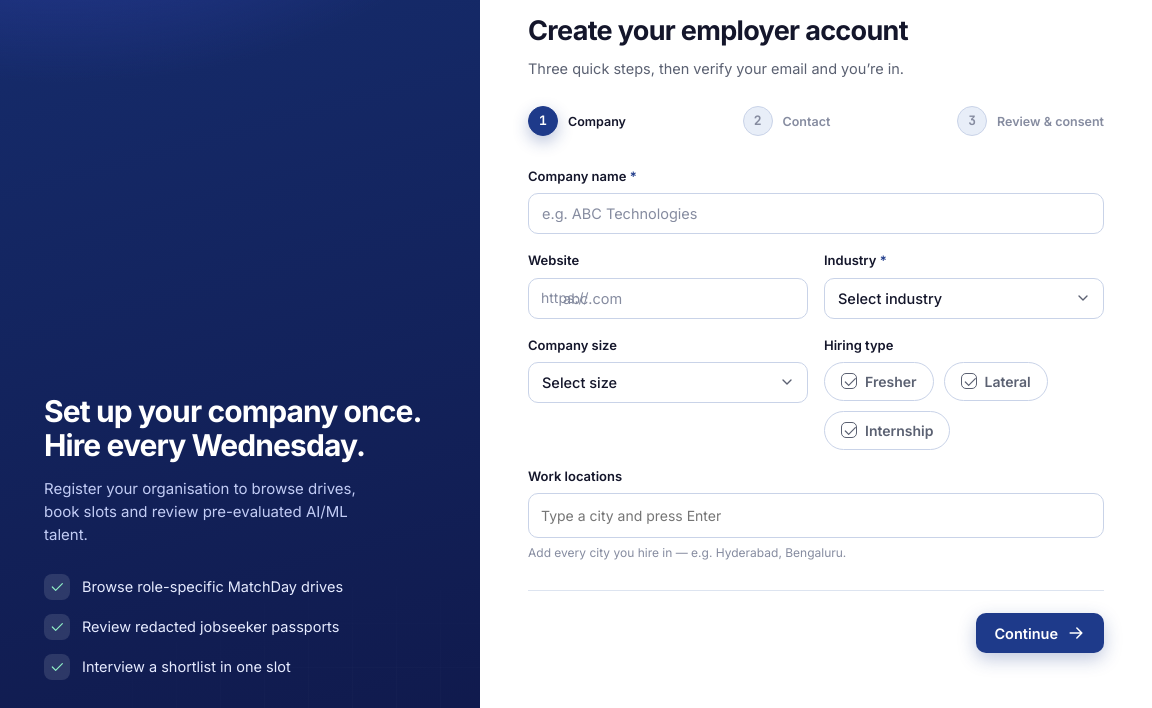
Scenario: EmployerSignup › blocks Next on step 1 when required fields are missing
The width and height of the screenshot is (1152, 708).
(page scrolled)
What coordinates should you click on to do the following:
click the button "Continue"
I would click on:
 (1040, 633)
Its box is [976,613,1104,653].
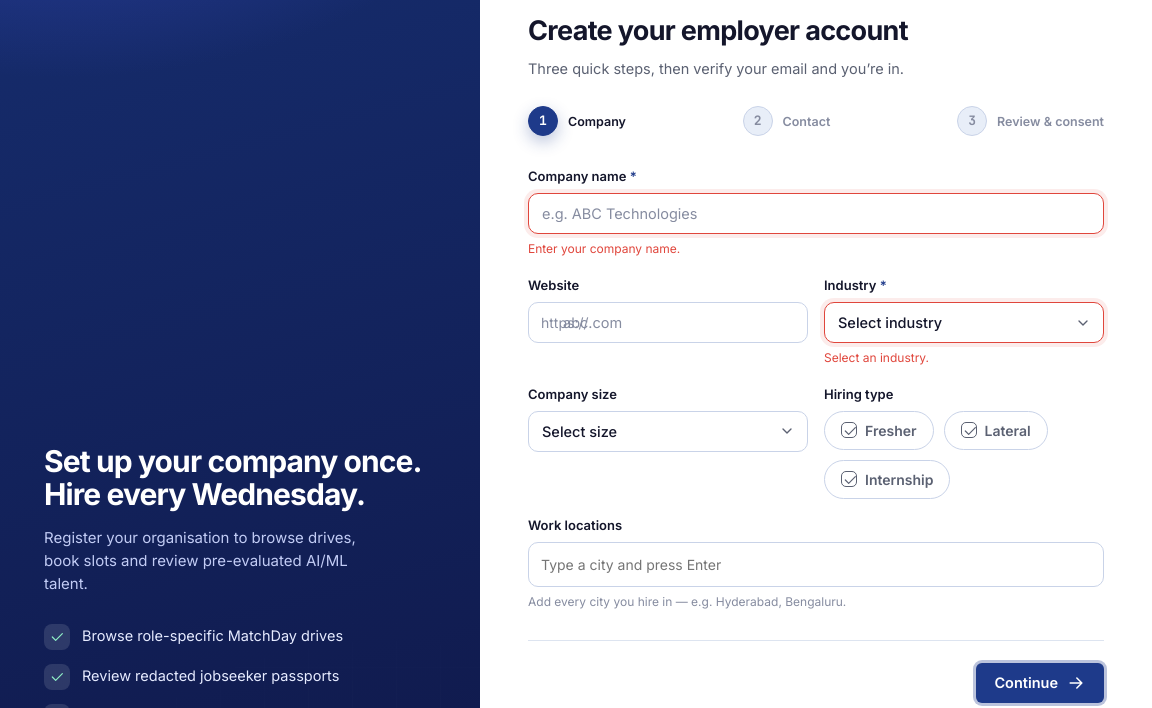
Expected: the text "Enter your company name." is shown, [528,241,680,256]
Expected: the text "Select an industry." is shown, [824,350,929,365]
